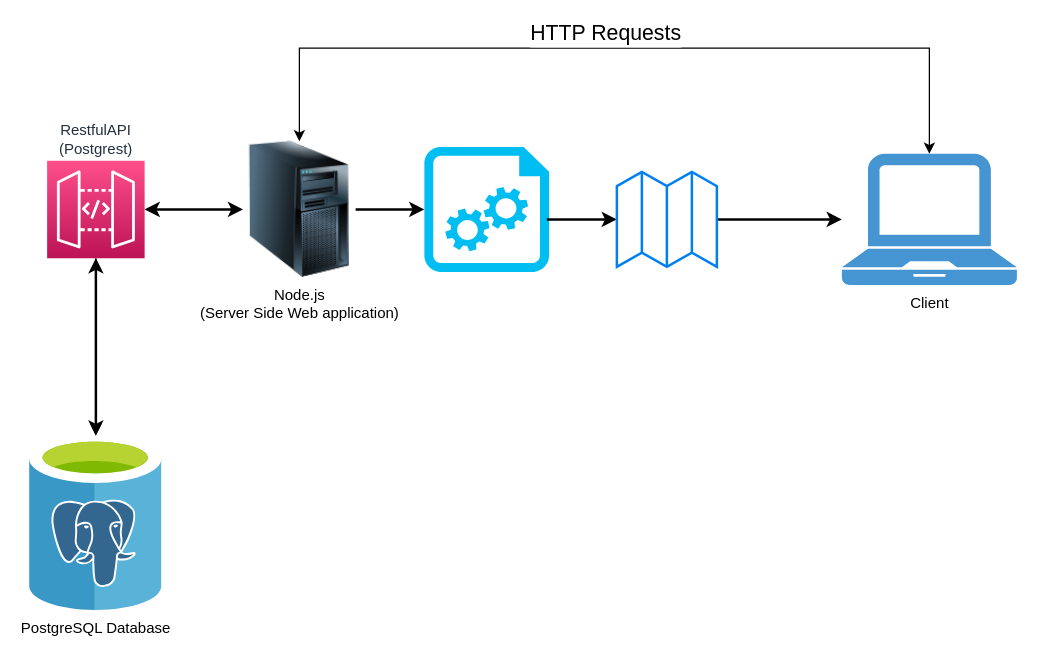
Image size: 1039x659. Some labels were removed from this diagram. Each missing label, with the centre of its shape:
"Generated Map" goes at point (666, 219).
"QGIS" goes at point (486, 208).
